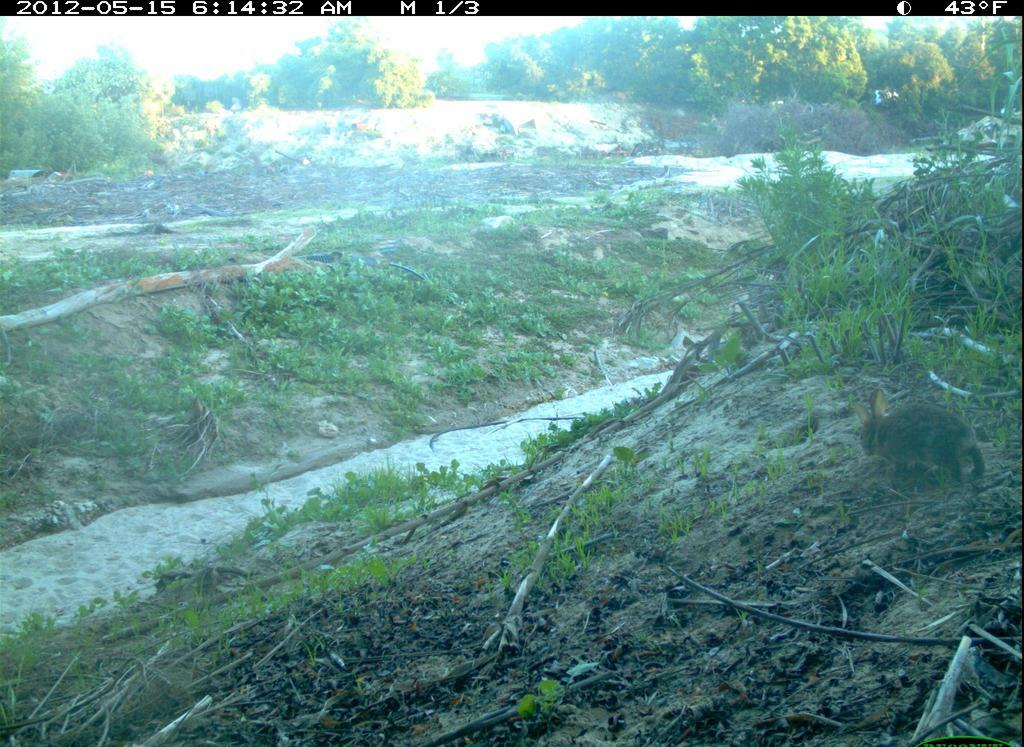rabbit: (838, 374, 1004, 504)
